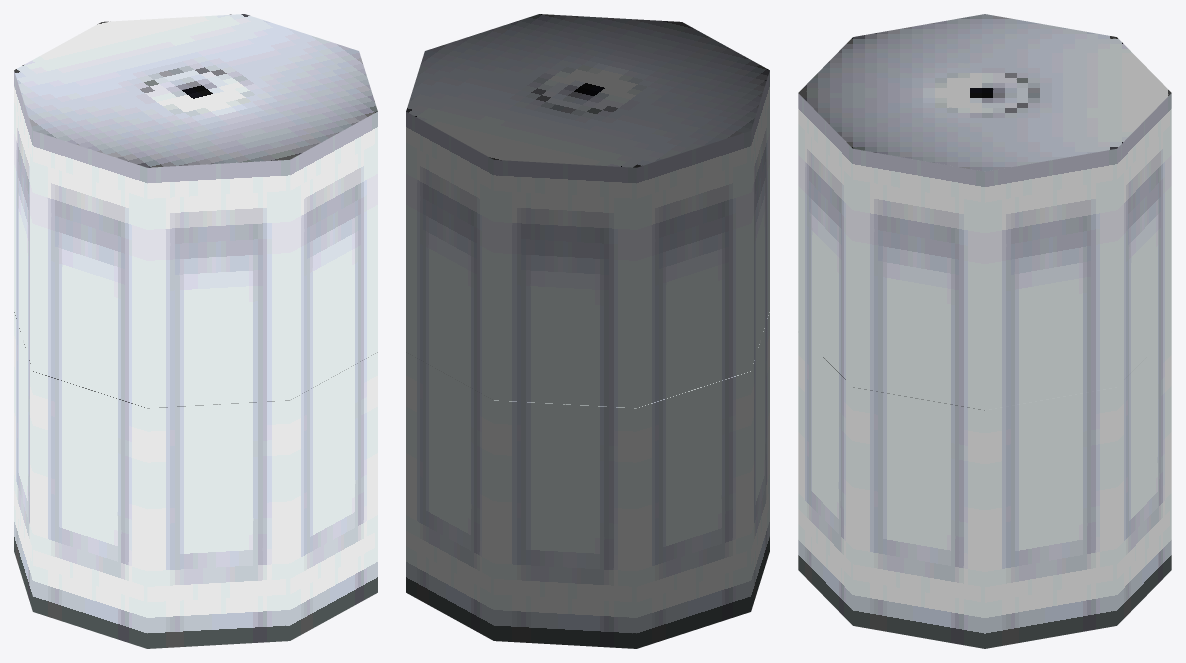
Rendered from PgasbarrelZ.obj.
The picture shows the model from 3 angles, left to right: view 1: azimuth 30°, elevation 25°; view 2: azimuth 150°, elevation 25°; view 3: azimuth 270°, elevation 25°; orthographic projection.
Size of the model in its own units: 840 by 1184 by 840.
Materials: 2 (2 with a texture image).
